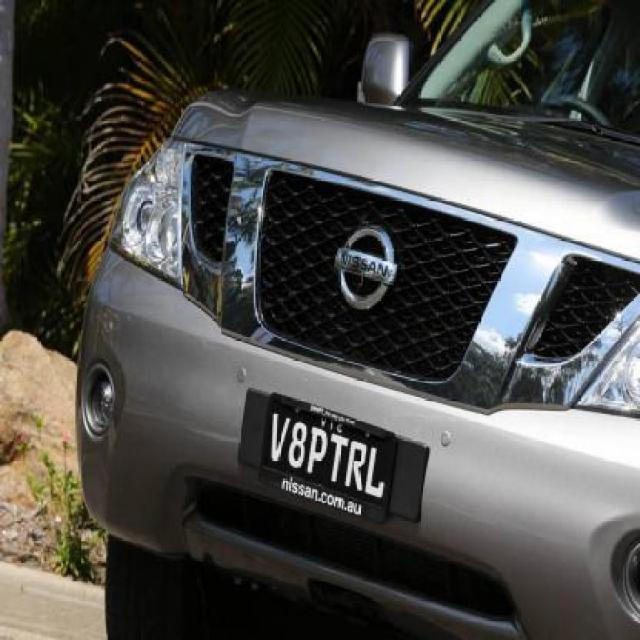License-Plates: (244, 384, 405, 530)
